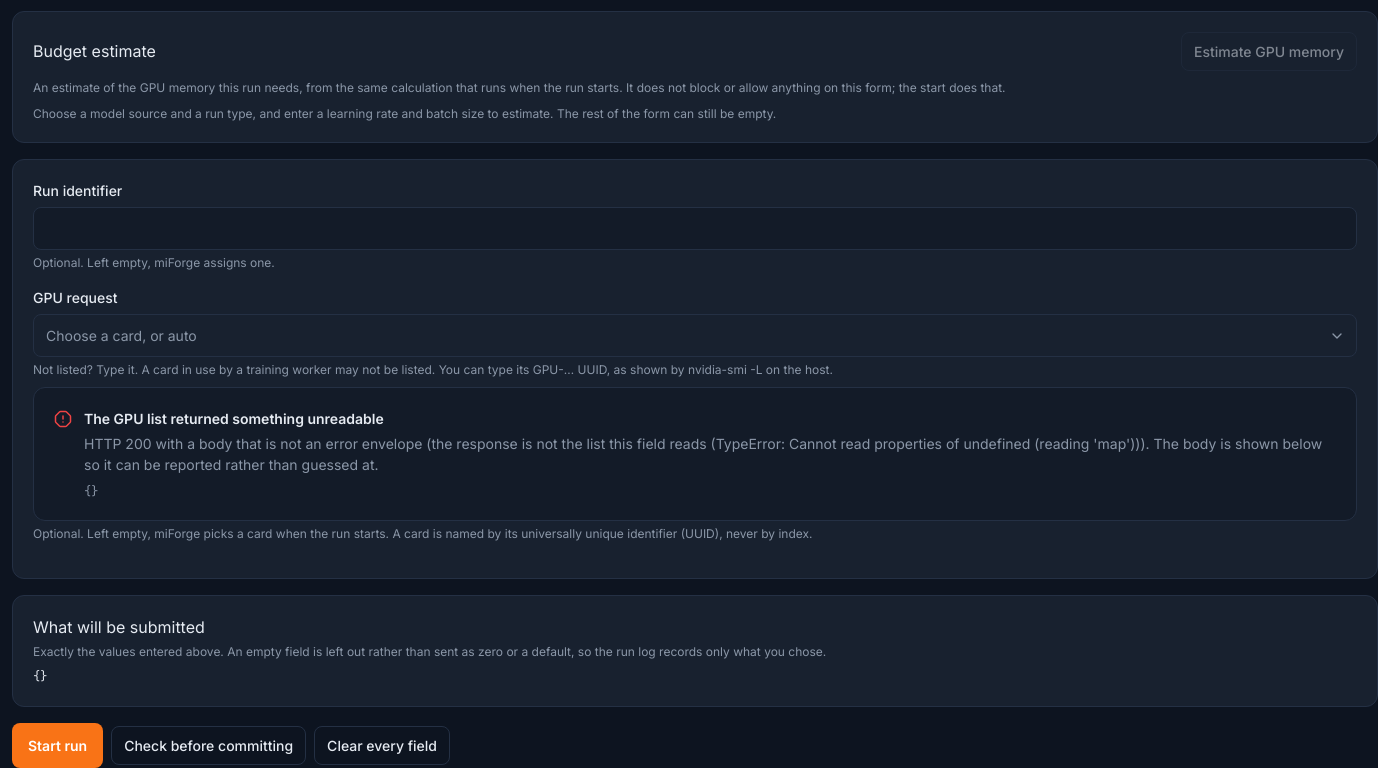
Test: [NewRunForm] › should read a NON-ok validate body from the body, not as a transport failure
The image size is (1378, 768).
(page scrolled)
Click the button with test id "check-definition": (209,745) top-left (111, 726), bottom-right (306, 765)
(page scrolled)
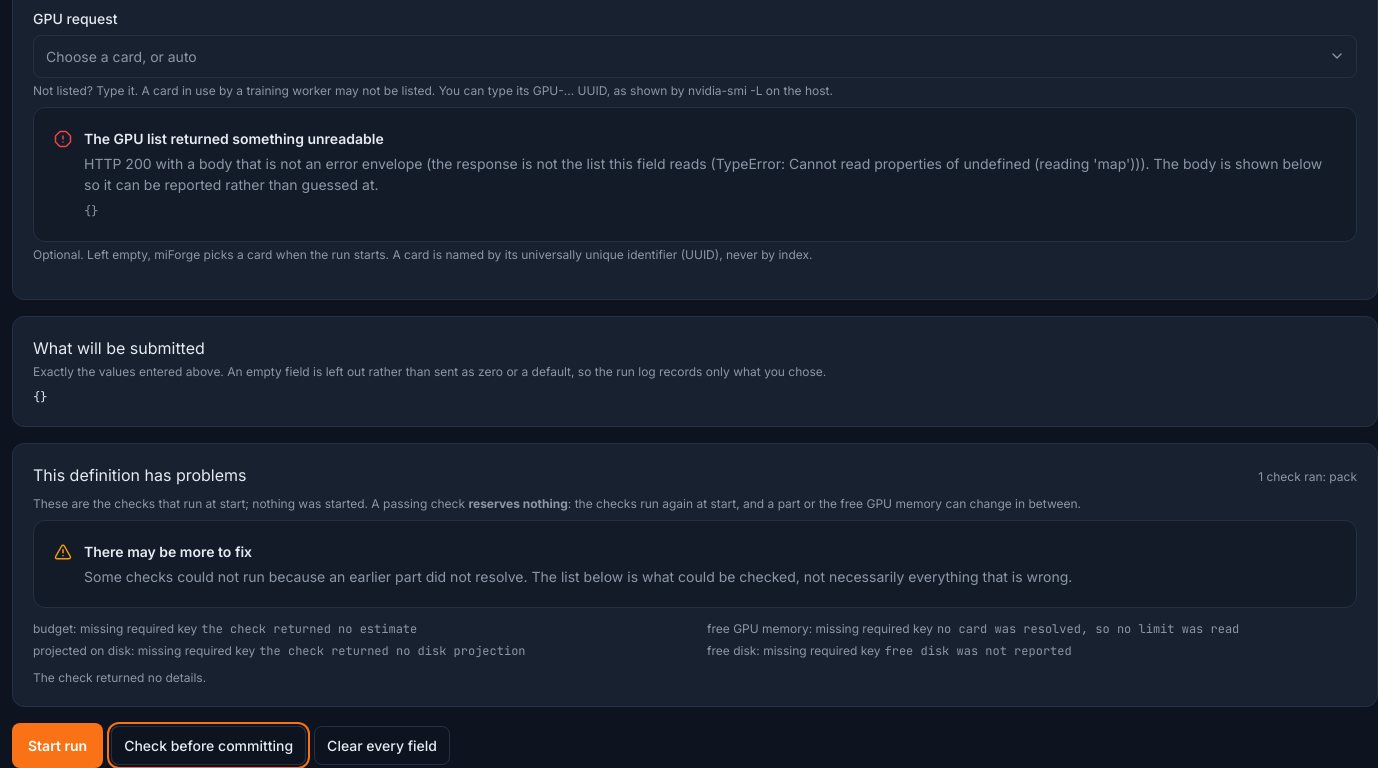
Expected: the button with test id "start-run" is enabled, top-left (12, 723), bottom-right (103, 767)
Result: the element with test id "resolved-summary" shows "There may be more to fix" at top-left (84, 543), bottom-right (252, 560)
